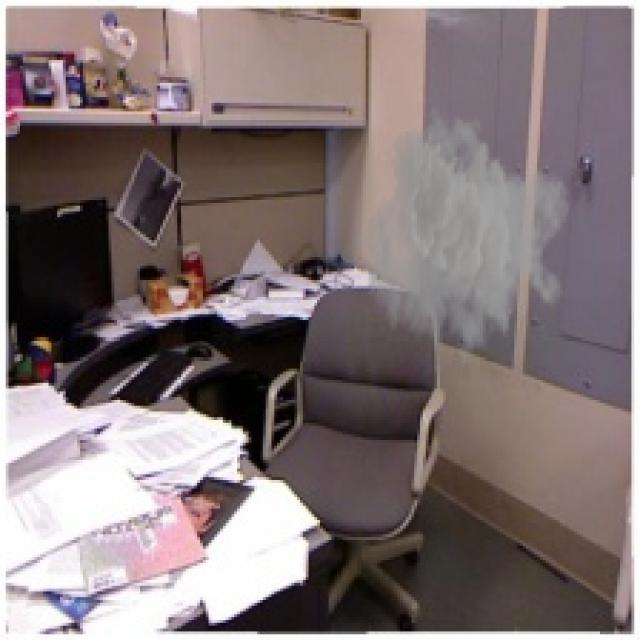Smoke: (363, 102, 571, 378)
